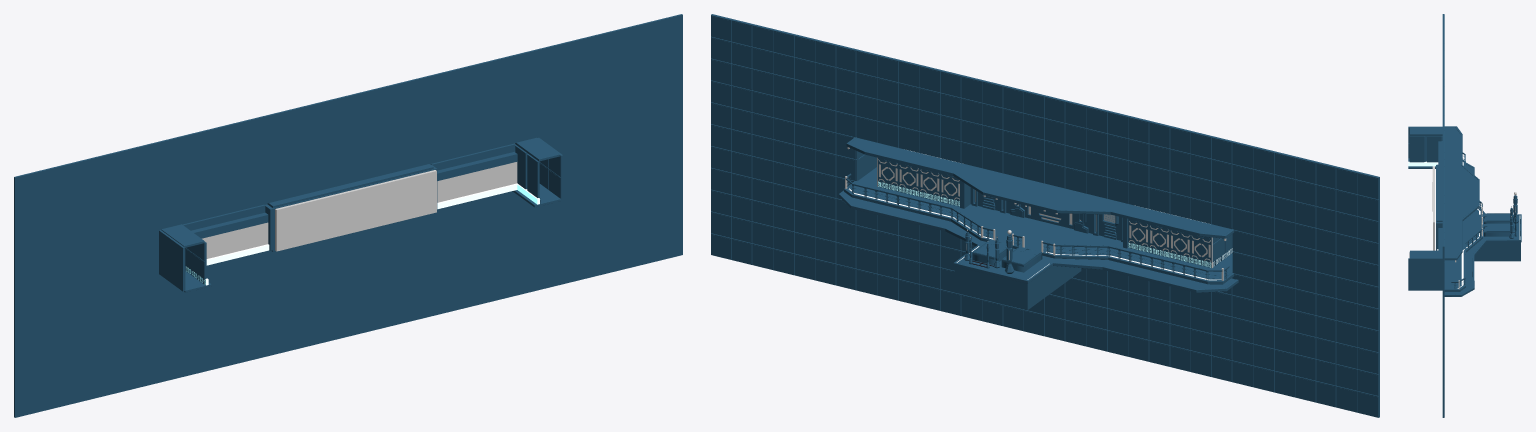
The model's file is Arc_couloirTp.fbx.
3 renders of one model, left to right at view 1: azimuth 30°, elevation 25°; view 2: azimuth 150°, elevation 25°; view 3: azimuth 270°, elevation 25°, orthographic. The views are drawn at different scales.
Parts seen in each view (by area): view 1: wall, wall4, MAinHallwayLight, wall3, Wall2, hallway, Arc_TpLogic, Wall5, old hallway wall, wall7, wall8, LightHallway1; view 2: wall4, wall, Arc_TpLogic, wall3, Wall2, walllogic accent, hallway, rails, WallNaration, LightHallway1; view 3: Arc_TpLogic, Wall5, walllogic accent, wall4, wall7, rails, tpDepart, old hallway wall, wall, MAinHallwayLight, tpArrive, Light Hallway2 (+3 smaller).
Part boxes in pixels (<box>): wall: <box>14,146,682,417</box>; wall4: <box>14,14,682,264</box>; MAinHallwayLight: <box>275,170,436,251</box>; wall3: <box>14,229,161,308</box>; Wall2: <box>537,102,682,174</box>; hallway: <box>202,162,517,258</box>; Arc_TpLogic: <box>161,137,560,292</box>; Wall5: <box>159,137,563,291</box>; old hallway wall: <box>191,151,517,238</box>; wall7: <box>185,145,539,279</box>; wall8: <box>182,143,515,230</box>; LightHallway1: <box>206,183,517,265</box>; wall4: <box>711,14,1379,264</box>; wall: <box>711,146,1379,417</box>; Arc_TpLogic: <box>842,138,1235,310</box>; wall3: <box>1232,230,1379,308</box>; Wall2: <box>711,102,858,180</box>; walllogic accent: <box>839,137,1238,292</box>; hallway: <box>877,159,1211,262</box>; rails: <box>845,173,1229,280</box>; WallNaration: <box>970,187,1120,240</box>; LightHallway1: <box>877,181,1211,267</box>; Arc_TpLogic: <box>1408,127,1520,294</box>; Wall5: <box>1408,126,1442,290</box>; walllogic accent: <box>1444,126,1521,296</box>; wall4: <box>1442,14,1444,308</box>; wall7: <box>1409,136,1442,257</box>; rails: <box>1451,152,1482,288</box>; tpDepart: <box>1483,223,1510,236</box>; old hallway wall: <box>1438,141,1442,250</box>; wall: <box>1442,340,1444,417</box>; MAinHallwayLight: <box>1432,166,1434,250</box>; tpArrive: <box>1483,213,1510,223</box>; Light Hallway2: <box>1408,161,1437,166</box>.
Size of the model in its own units: 6400 by 2200 by 1320.
